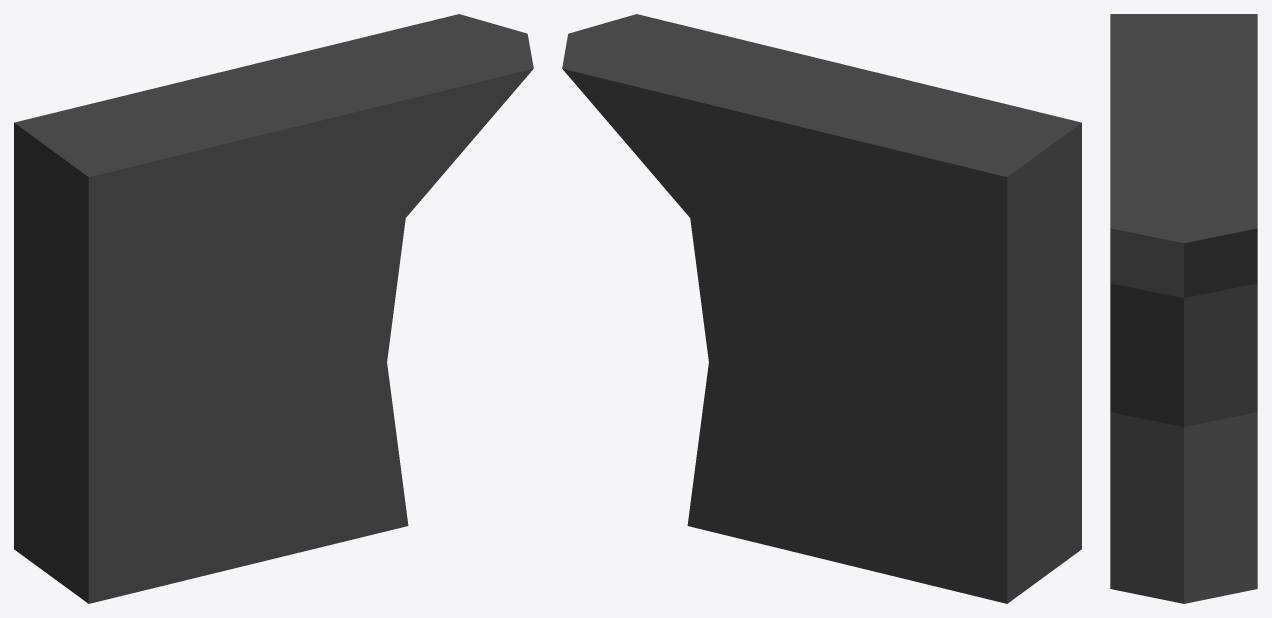
Rendered from SM_SMG4_01_2.glb.
3 renders of one model, left to right at view 1: azimuth 30°, elevation 25°; view 2: azimuth 150°, elevation 25°; view 3: azimuth 270°, elevation 25°, orthographic.
Parts seen in each view (by area): view 1: SM_SMG4_01_2; view 2: SM_SMG4_01_2; view 3: SM_SMG4_01_2.
Part boxes in pixels (left/top/right/bottom): SM_SMG4_01_2: left=14, top=14, right=533, bottom=603; SM_SMG4_01_2: left=562, top=14, right=1081, bottom=603; SM_SMG4_01_2: left=1110, top=14, right=1257, bottom=603.
Bounding box in the file's own units: 0.0446 × 0.0382 × 0.0121.
1 material, 1 textured.
